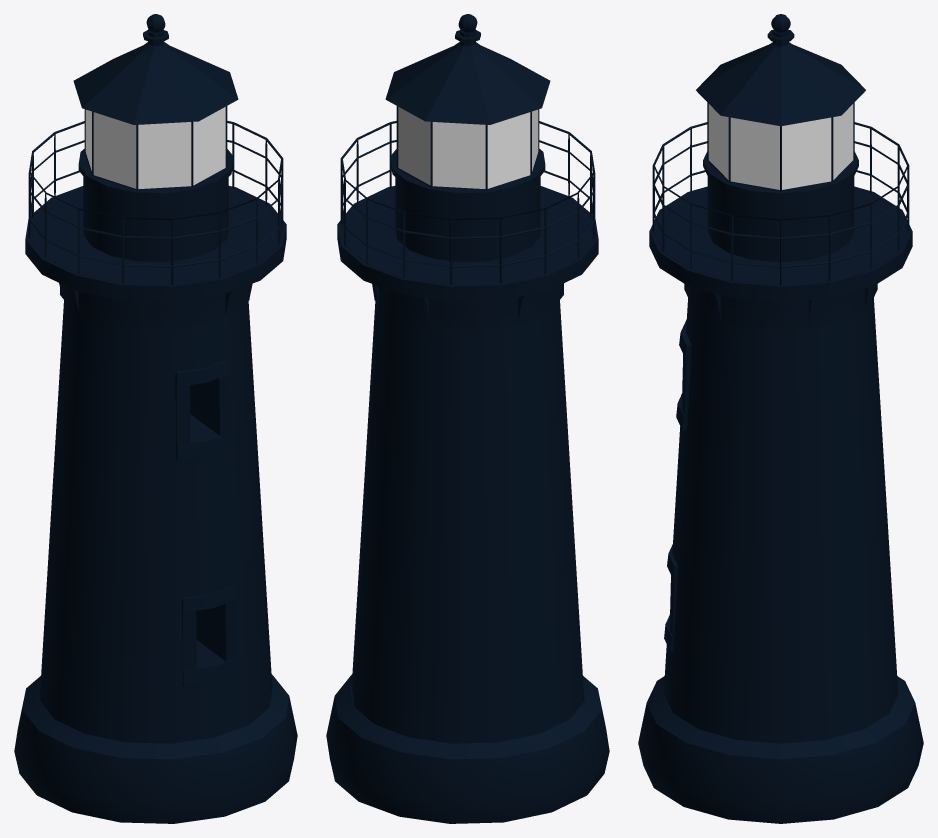
File: Lighthouse_Model.glb
The picture shows the model from 3 angles, left to right: view 1: azimuth 30°, elevation 25°; view 2: azimuth 150°, elevation 25°; view 3: azimuth 270°, elevation 25°; orthographic projection.
Visible parts, largest first — view 1: Tower_Main, Tower_Base, Tower_Rim, Tower_LightBase, Tower_Roof, Tower_Glass, Tower_Railing, Tower_Window_Top, Tower_Window_Bottom, Tower_Rim_Decoration, Tower_GlassGrill; view 2: Tower_Main, Tower_Base, Tower_Rim, Tower_LightBase, Tower_Roof, Tower_Glass, Tower_Railing, Tower_Rim_Decoration, Tower_GlassGrill; view 3: Tower_Main, Tower_Base, Tower_Rim, Tower_LightBase, Tower_Roof, Tower_Glass, Tower_Railing, Tower_Rim_Decoration, Tower_GlassGrill, Tower_Window_Top, Tower_Window_Bottom.
Boxes of the visible parts, left/top/right/bottom form: Tower_Main: left=39, top=300, right=272, bottom=743; Tower_Base: left=14, top=674, right=297, bottom=823; Tower_Rim: left=25, top=186, right=286, bottom=330; Tower_LightBase: left=78, top=149, right=233, bottom=262; Tower_Roof: left=73, top=29, right=238, bottom=124; Tower_Glass: left=85, top=107, right=225, bottom=188; Tower_Railing: left=28, top=121, right=283, bottom=284; Tower_Window_Top: left=175, top=359, right=232, bottom=460; Tower_Window_Bottom: left=181, top=585, right=238, bottom=685; Tower_Rim_Decoration: left=59, top=283, right=252, bottom=329; Tower_GlassGrill: left=84, top=106, right=227, bottom=190; Tower_Main: left=351, top=300, right=584, bottom=743; Tower_Base: left=326, top=674, right=609, bottom=823; Tower_Rim: left=337, top=186, right=598, bottom=330; Tower_LightBase: left=390, top=149, right=545, bottom=262; Tower_Roof: left=385, top=29, right=550, bottom=124; Tower_Glass: left=398, top=107, right=538, bottom=188; Tower_Railing: left=340, top=121, right=595, bottom=284; Tower_Rim_Decoration: left=375, top=283, right=563, bottom=328; Tower_GlassGrill: left=396, top=106, right=539, bottom=190; Tower_Main: left=663, top=298, right=898, bottom=743; Tower_Base: left=638, top=676, right=923, bottom=823; Tower_Rim: left=649, top=186, right=912, bottom=330; Tower_LightBase: left=703, top=151, right=858, bottom=262; Tower_Roof: left=696, top=29, right=865, bottom=126; Tower_Glass: left=708, top=104, right=853, bottom=189; Tower_Railing: left=652, top=122, right=909, bottom=285; Tower_Rim_Decoration: left=684, top=284, right=869, bottom=329; Tower_GlassGrill: left=707, top=102, right=854, bottom=191; Tower_Window_Top: left=676, top=320, right=691, bottom=430; Tower_Window_Bottom: left=664, top=544, right=677, bottom=651.
Size of the model in its own units: 2.42 by 7.03 by 2.42.
